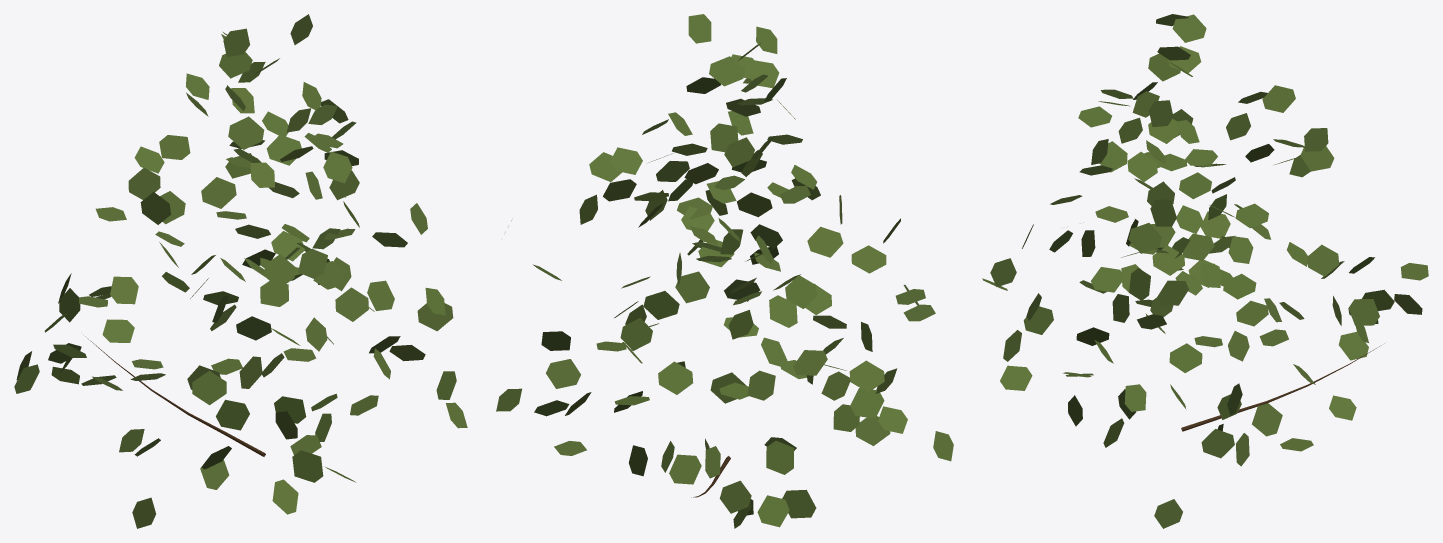
The model's file is bush-tree-lod1.glb.
The picture shows the model from 3 angles, left to right: view 1: azimuth 30°, elevation 25°; view 2: azimuth 150°, elevation 25°; view 3: azimuth 270°, elevation 25°; orthographic projection. The views are drawn at different scales.
Parts seen in each view (by area): view 1: v_tree; view 2: v_tree; view 3: v_tree.
Part boxes in pixels (bbox=[...]): v_tree: bbox=[14, 14, 467, 528]; v_tree: bbox=[496, 14, 953, 528]; v_tree: bbox=[982, 14, 1428, 528].
Bounding box in the file's own units: 3.45 × 4.02 × 3.68.
